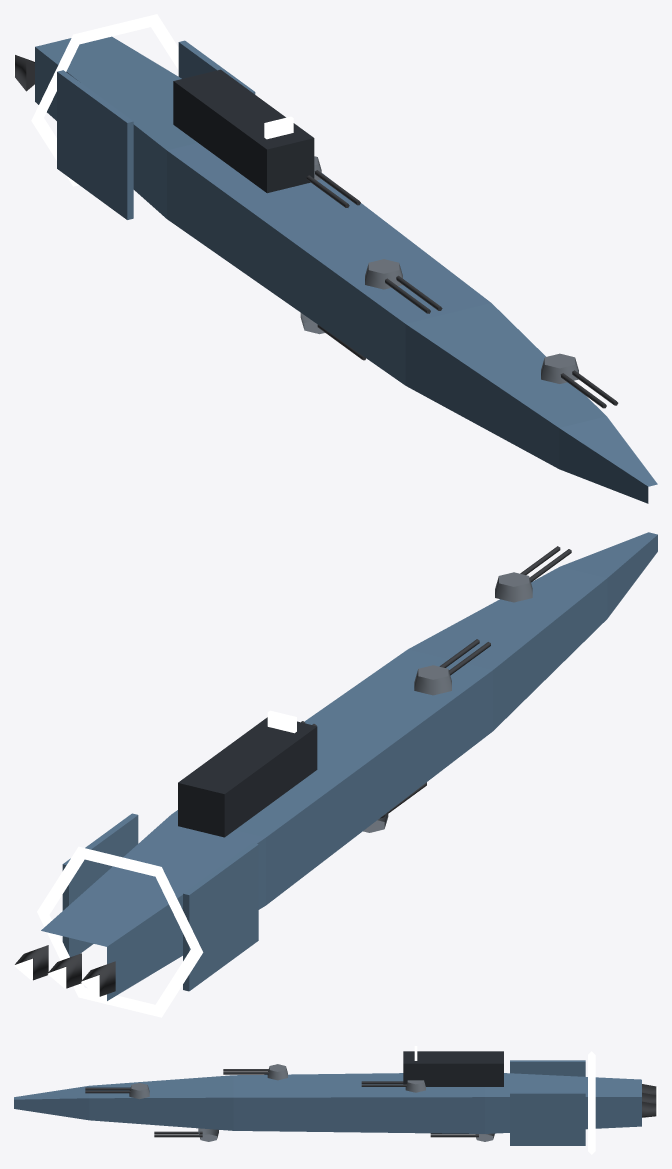
Rendered from space_ship_frigate_mk6_lod2.glb.
3 views of the same model, one above another, from view 1: azimuth 30°, elevation 25°; view 2: azimuth 150°, elevation 25°; view 3: azimuth 270°, elevation 25° (orthographic). The views are drawn at different scales.
Parts seen in each view (by area): view 1: body, turret_2, turret_0, turret_4; view 2: body, turret_0, turret_2, engine_0, engine_2, engine_1; view 3: body, turret_0, turret_1, turret_2, turret_4, turret_5, engine_2.
Boxes of the visible parts, x1,y1,x2,y2 form: body: (31,14,657,503); turret_2: (365,259,442,313); turret_0: (541,353,618,408); turret_4: (306,156,360,207); body: (37,532,657,1017); turret_0: (495,546,571,602); turret_2: (414,639,490,695); engine_0: (81,961,115,996); engine_2: (14,945,48,980); engine_1: (48,953,81,988); body: (14,1046,641,1154); turret_0: (85,1083,149,1099); turret_1: (154,1128,218,1141); turret_2: (223,1064,287,1080); turret_4: (361,1080,425,1092); turret_5: (430,1133,494,1141); engine_2: (642,1101,657,1117).
Bounding box in the file's own units: 7.96 × 7.96 × 49.22.
